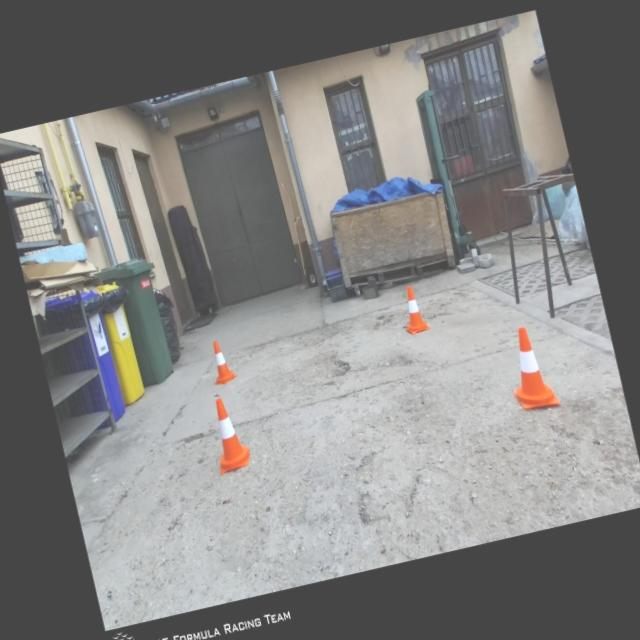orange_cone: (500, 322, 559, 412), (202, 394, 254, 476), (396, 283, 430, 335), (204, 337, 237, 385)
